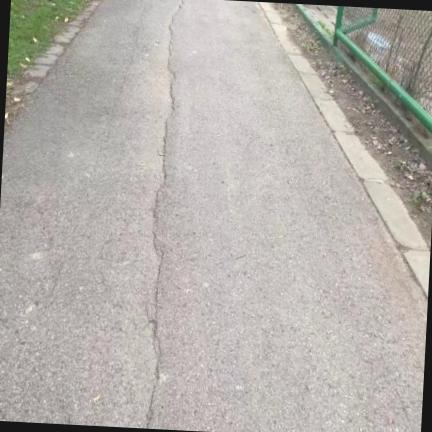Road: (0, 0, 427, 431)
